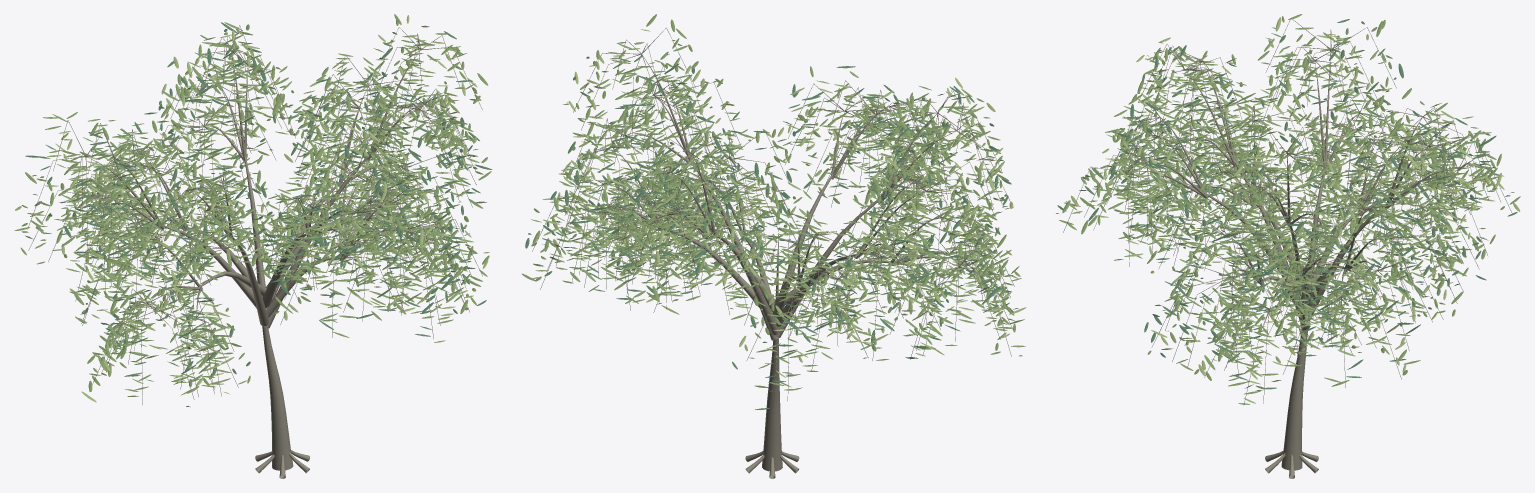
Rendered from tree2.glb.
The picture shows the model from 3 angles, left to right: view 1: azimuth 30°, elevation 25°; view 2: azimuth 150°, elevation 25°; view 3: azimuth 270°, elevation 25°; orthographic projection.
Parts seen in each view (by area): view 1: Tree2_Leaf, Tree2_Trunk, Tree2_LeafLight, Tree2_LeafDark; view 2: Tree2_Leaf, Tree2_Trunk, Tree2_LeafLight, Tree2_LeafDark; view 3: Tree2_Leaf, Tree2_Trunk, Tree2_LeafLight, Tree2_LeafDark.
Part boxes in pixels (x1=…): Tree2_Leaf: x1=14, y1=14, x2=491, y2=407; Tree2_Trunk: x1=27, y1=25, x2=482, y2=478; Tree2_LeafLight: x1=15, y1=15, x2=489, y2=402; Tree2_LeafDark: x1=25, y1=22, x2=492, y2=376; Tree2_Leaf: x1=522, y1=14, x2=1025, y2=390; Tree2_Trunk: x1=532, y1=27, x2=1014, y2=478; Tree2_LeafLight: x1=532, y1=29, x2=1026, y2=377; Tree2_LeafDark: x1=525, y1=55, x2=1013, y2=409; Tree2_Leaf: x1=1059, y1=14, x2=1520, y2=394; Tree2_Trunk: x1=1063, y1=18, x2=1512, y2=478; Tree2_LeafLight: x1=1056, y1=17, x2=1520, y2=403; Tree2_LeafDark: x1=1057, y1=19, x2=1517, y2=404.
Bounding box in the file's own units: 12.54 × 10.73 × 11.
